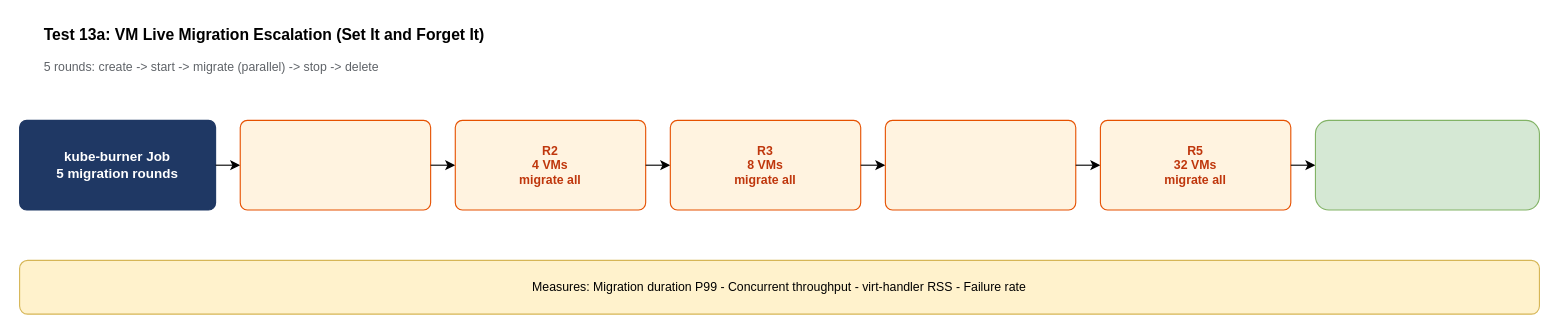
The diagram is 1559 pixels wide and 334 high, and some of its shapes have lost their labels. Here are the shapes that lost their labels. From the top down, the centre of each, then its label:
At (335,164): "R1 2 VMs migrate all".
At (980,164): "R4 16 VMs migrate all".
At (1426,164): "Migration ceiling ✓".
